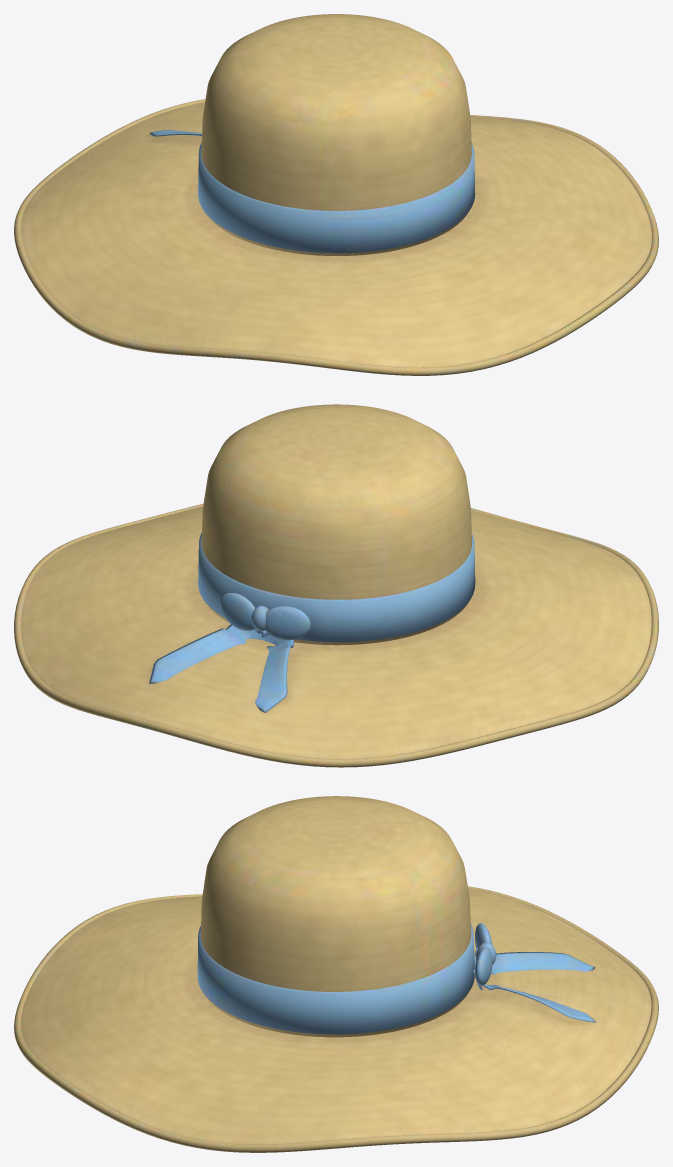
Rendered from hat_straw.glb.
The picture shows the model from 3 angles, top to bottom: view 1: azimuth 30°, elevation 25°; view 2: azimuth 150°, elevation 25°; view 3: azimuth 270°, elevation 25°; orthographic projection.
Visible parts, largest first — view 1: straw-hat_body; view 2: straw-hat_body; view 3: straw-hat_body.
Boxes of the visible parts, left/top/right/bottom form: straw-hat_body: left=14, top=14, right=658, bottom=375; straw-hat_body: left=14, top=404, right=658, bottom=767; straw-hat_body: left=14, top=796, right=658, bottom=1152.
Size of the model in its own units: 0.34 by 0.1177 by 0.34.
1 material, 1 textured.
